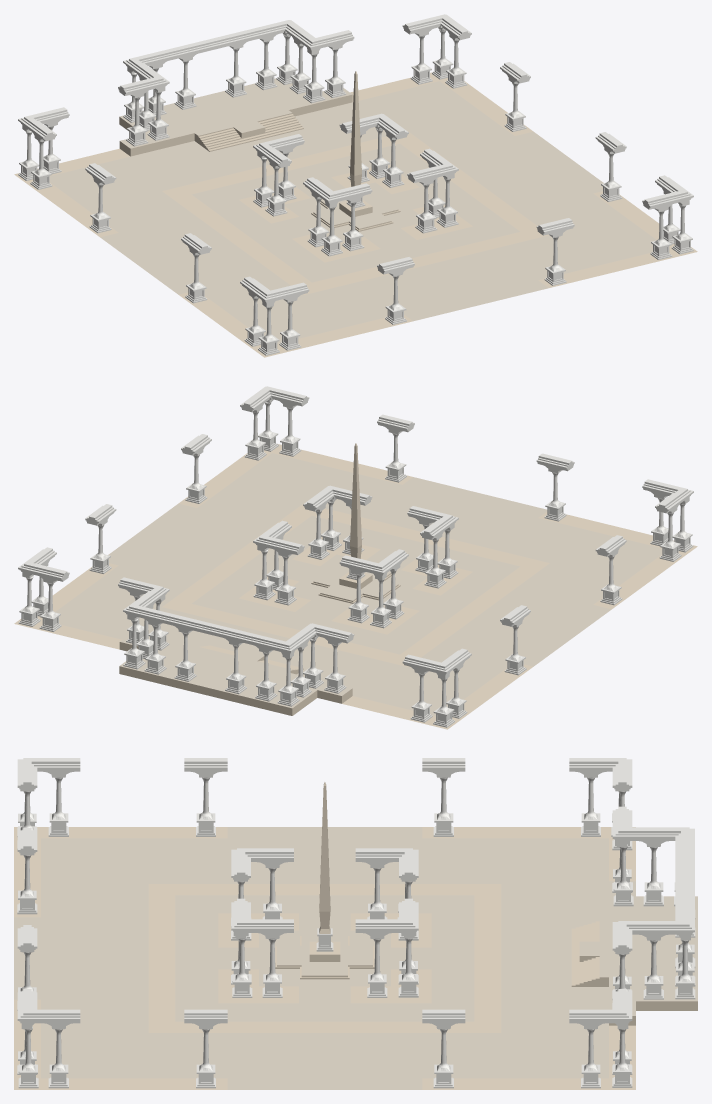
The model's file is RomanSquare.fbx.
3 views of the same model, one above another, from view 1: azimuth 30°, elevation 25°; view 2: azimuth 150°, elevation 25°; view 3: azimuth 270°, elevation 25° (orthographic). The views are drawn at different scales.
Parts seen in each view (by area): view 1: buildings3; view 2: buildings3; view 3: buildings3.
Part boxes in pixels (x1=…): buildings3: x1=14, y1=14, x2=697, y2=357; buildings3: x1=14, y1=386, x2=697, y2=729; buildings3: x1=14, y1=758, x2=697, y2=1089.
Size of the model in its own units: 116 by 36.57 by 128.
